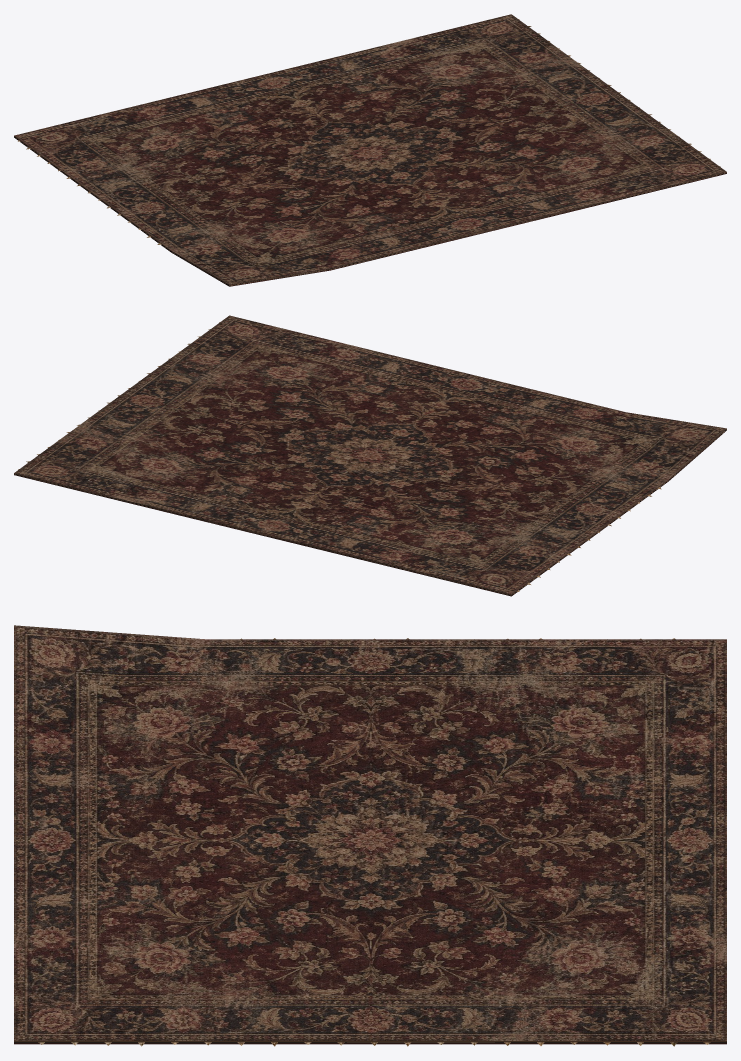
Rendered from level1_victorian_rug.glb.
The picture shows the model from 3 angles, top to bottom: view 1: azimuth 30°, elevation 25°; view 2: azimuth 150°, elevation 25°; view 3: azimuth 270°, elevation 25°; orthographic projection. The views are drawn at different scales.
Parts seen in each view (by area): view 1: RugMain, RugFoldCorner; view 2: RugMain, RugFoldCorner; view 3: RugMain, RugFoldCorner.
Boxes of the visible parts, x1,y1,x2,y2 form: RugMain: [14, 14, 726, 270]; RugFoldCorner: [171, 250, 330, 286]; RugMain: [14, 315, 668, 596]; RugFoldCorner: [626, 412, 726, 480]; RugMain: [14, 639, 726, 1044]; RugFoldCorner: [14, 625, 206, 720].
Bounding box in the file's own units: 3.25 × 0.064 × 2.4.
Materials: 3 (3 with a texture image).
